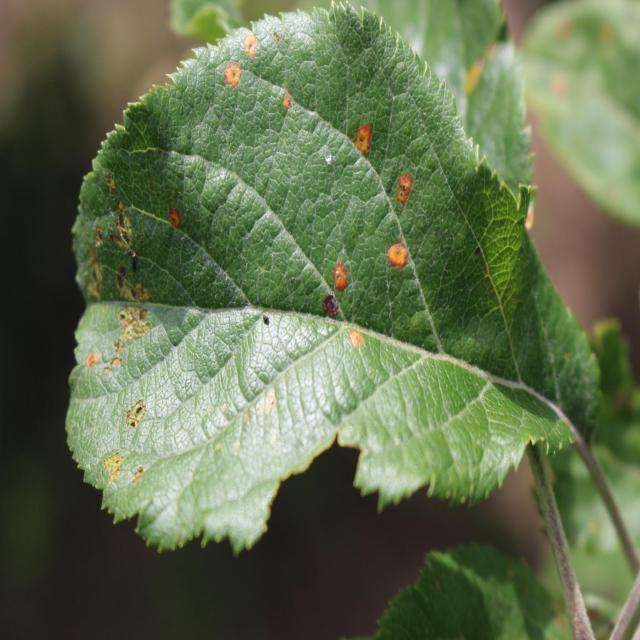Rust: (345, 109, 376, 167), (377, 228, 417, 272), (388, 163, 418, 218), (317, 251, 354, 291), (214, 56, 244, 98), (155, 197, 190, 229), (278, 82, 301, 124), (345, 325, 371, 361), (237, 28, 259, 69), (78, 350, 106, 376)
